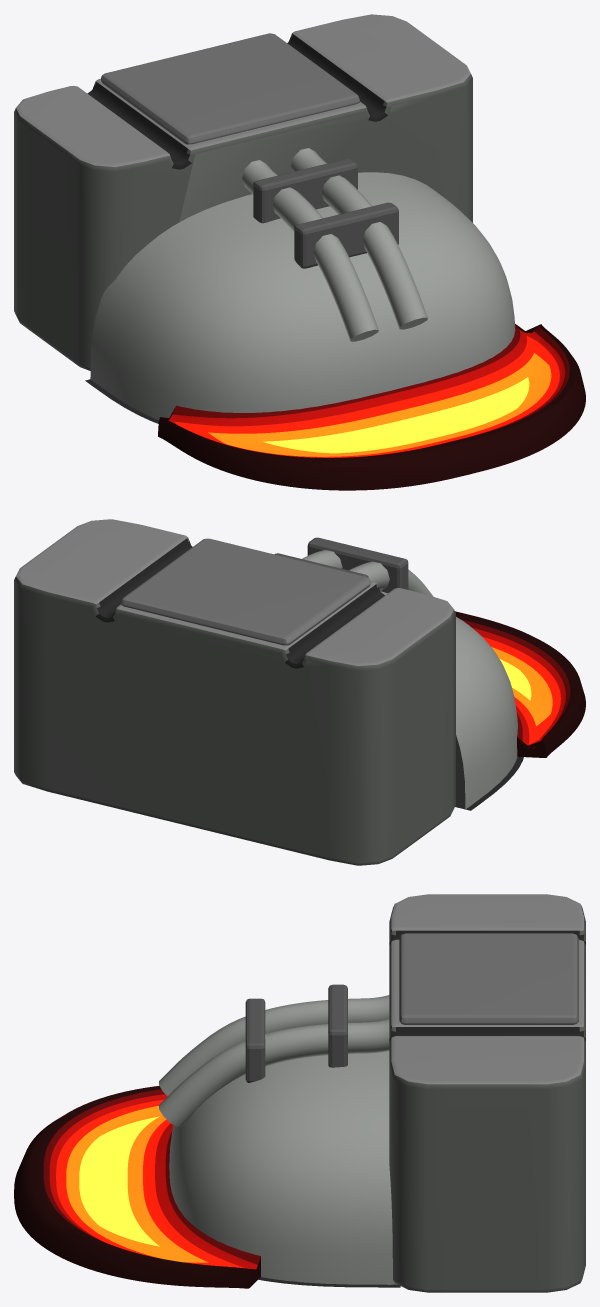
Rendered from vent_dome_243.glb.
The picture shows the model from 3 angles, top to bottom: view 1: azimuth 30°, elevation 25°; view 2: azimuth 150°, elevation 25°; view 3: azimuth 270°, elevation 25°; orthographic projection. The views are drawn at different scales.
Visible parts, largest first — view 1: shield, head, vent, plate, pipe0, pipe1, strap1, strap0; view 2: head, plate, shield, vent, strap1, pipe0; view 3: head, shield, vent, plate, pipe1, pipe0, strap1, strap0.
Part boxes in pixels (x1,y1,x2,y2): shield: (85, 172, 515, 423); head: (14, 14, 472, 370); vent: (158, 324, 585, 490); plate: (101, 33, 359, 144); pipe0: (242, 160, 378, 341); pipe1: (291, 148, 427, 329); strap1: (294, 202, 398, 268); strap0: (253, 159, 357, 223); head: (14, 519, 455, 865); plate: (121, 538, 370, 645); shield: (380, 591, 523, 810); vent: (455, 611, 585, 757); strap1: (307, 537, 408, 593); pipe0: (349, 561, 433, 596); head: (389, 894, 585, 1292); shield: (169, 1051, 400, 1287); vent: (14, 1086, 260, 1288); plate: (399, 933, 578, 1024); pipe1: (159, 1019, 389, 1127); pipe0: (159, 995, 389, 1096); strap1: (245, 998, 265, 1082); strap0: (328, 984, 347, 1067).
Size of the model in its own units: 16.28 by 8.5 by 20.08.
